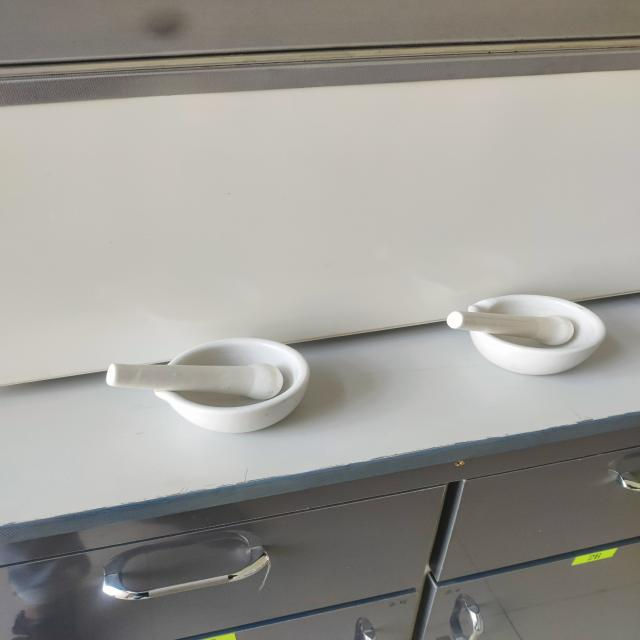Porcelain_Mortar Pestle: (94, 306, 324, 449), (414, 261, 638, 404)
